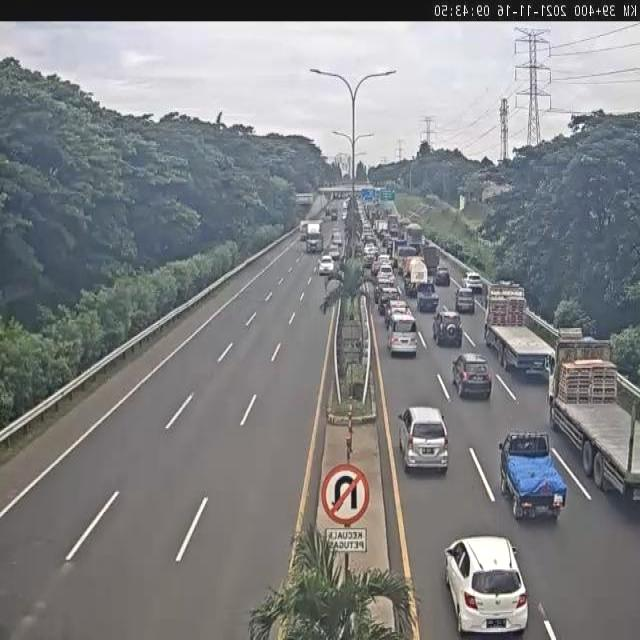Bus: (387, 312, 418, 357)
Car: (440, 536, 530, 634), (398, 407, 448, 476), (453, 353, 494, 400), (432, 313, 462, 345), (380, 288, 399, 314), (457, 290, 475, 312), (461, 272, 483, 290), (317, 255, 334, 275), (364, 246, 379, 265), (378, 266, 393, 284), (436, 266, 450, 285), (372, 259, 388, 273), (362, 232, 377, 244), (328, 244, 339, 258)
Truck: (556, 332, 640, 504), (499, 432, 564, 523), (487, 285, 555, 368), (405, 258, 427, 296), (415, 282, 438, 308), (308, 224, 324, 252), (408, 226, 422, 252), (424, 245, 440, 267), (392, 240, 408, 257), (388, 215, 401, 231), (301, 221, 307, 240), (331, 210, 338, 222)
